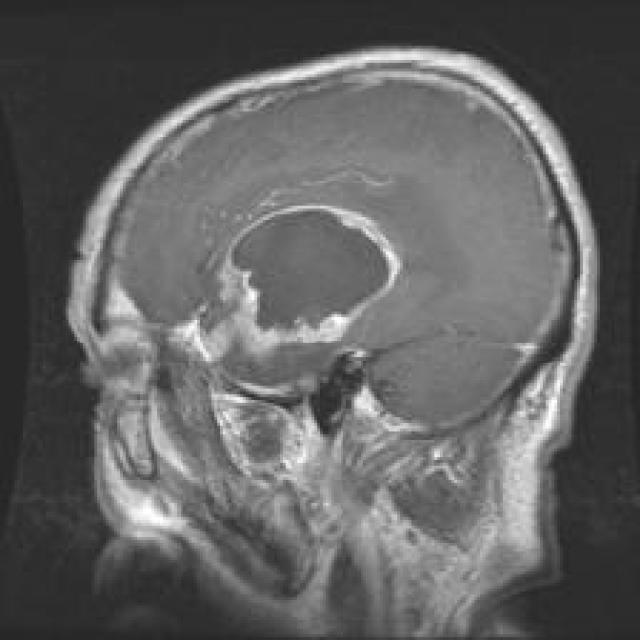glioma_tumor: (206, 196, 402, 372)
